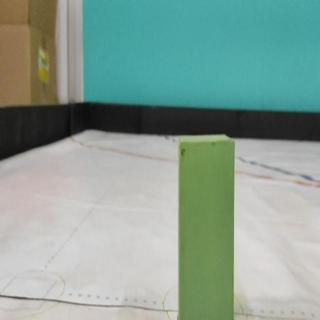greenbox: (175, 133, 237, 320)
